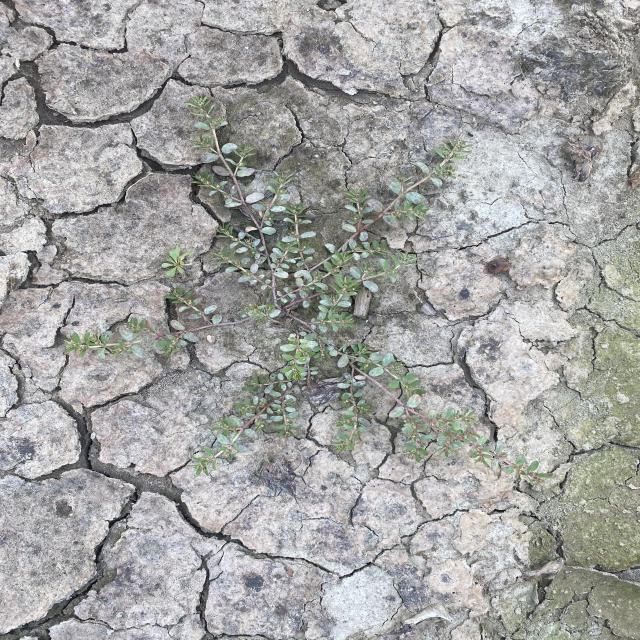SpottedSpurge: (61, 95, 556, 492)
